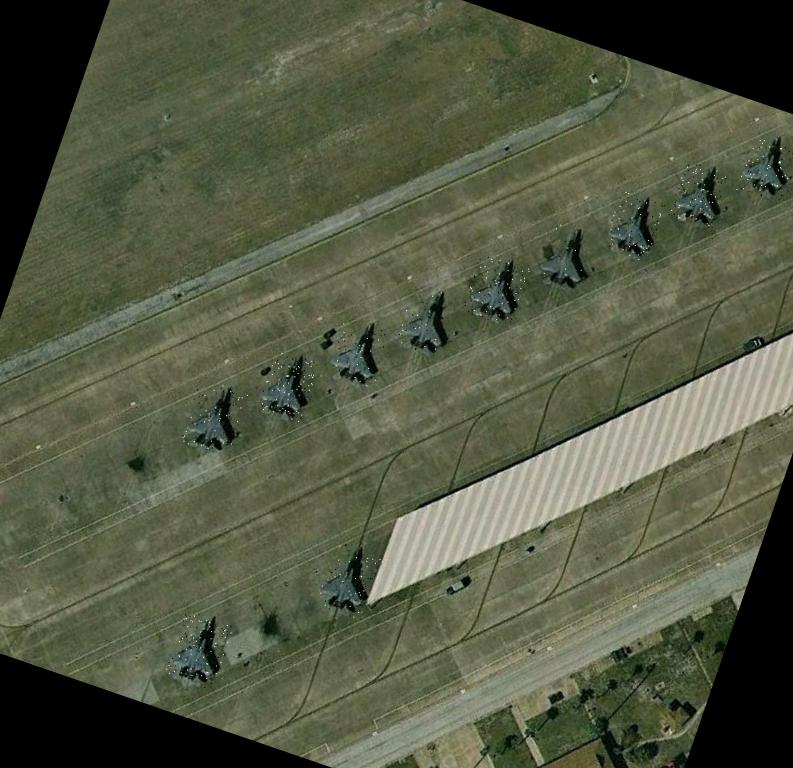A13: (179, 378, 250, 458), (164, 610, 234, 690), (460, 252, 530, 328), (532, 219, 600, 296), (315, 541, 381, 620), (394, 284, 459, 360), (326, 316, 392, 390), (255, 348, 320, 422), (602, 190, 664, 262), (668, 160, 730, 230), (735, 135, 793, 204)
